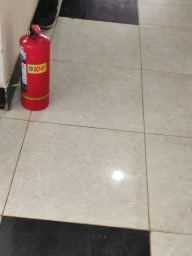fire_extinguisher: (18, 188, 83, 231)
